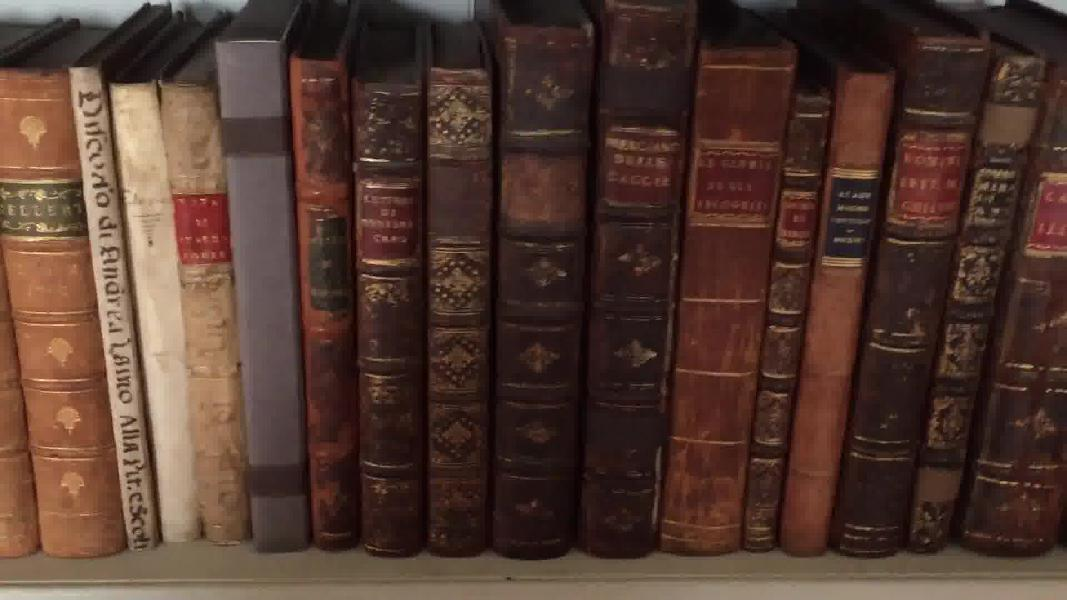Aa6-24: (65, 54, 165, 561)
Aa6-25: (106, 81, 208, 551)
Aa6-26: (151, 73, 265, 539)
Aa6-27: (197, 23, 324, 554)
Aa6-28: (275, 34, 365, 559)
Aa6-29: (343, 71, 431, 573)
Aa6-30: (420, 51, 493, 562)
Aa6-31: (479, 15, 586, 566)
Aa6-32: (589, 4, 690, 552)
Aa6-33: (671, 9, 782, 567)
Aa6-34: (735, 77, 835, 563)
Aa6-35: (775, 36, 885, 559)
Aa6-36: (838, 7, 990, 586)
Aa6-37: (925, 19, 1047, 555)
